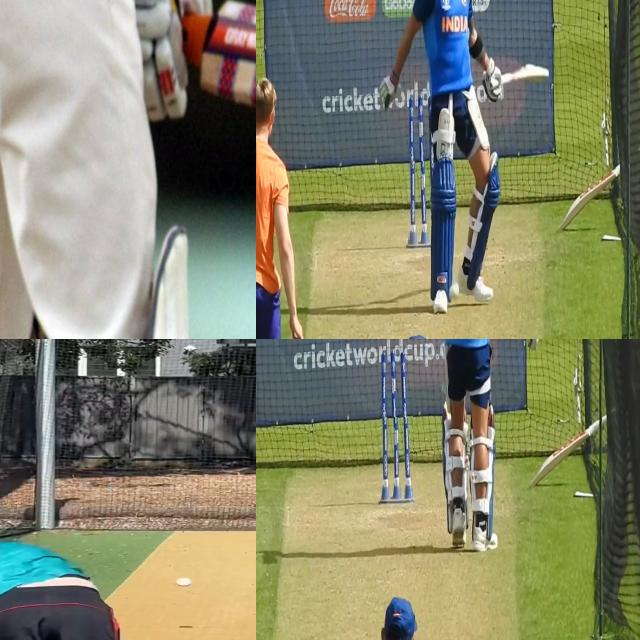Cricket ball: (173, 575, 196, 589)
Stumps: (379, 350, 413, 506), (408, 93, 430, 248)
